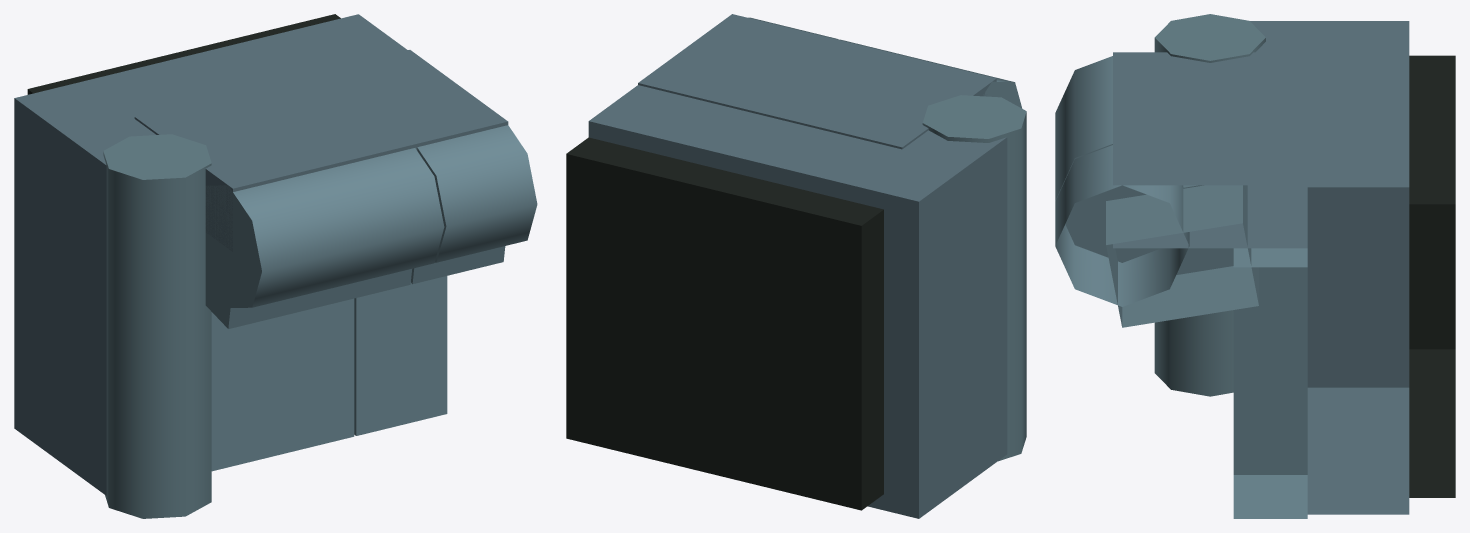
The model's file is section-4.obj.
The picture shows the model from 3 angles, left to right: view 1: azimuth 30°, elevation 25°; view 2: azimuth 150°, elevation 25°; view 3: azimuth 270°, elevation 25°; orthographic projection. The views are drawn at different scales.
Bounding box in the file's own units: 0.865 × 0.8 × 0.865.
1 material, 1 textured.
